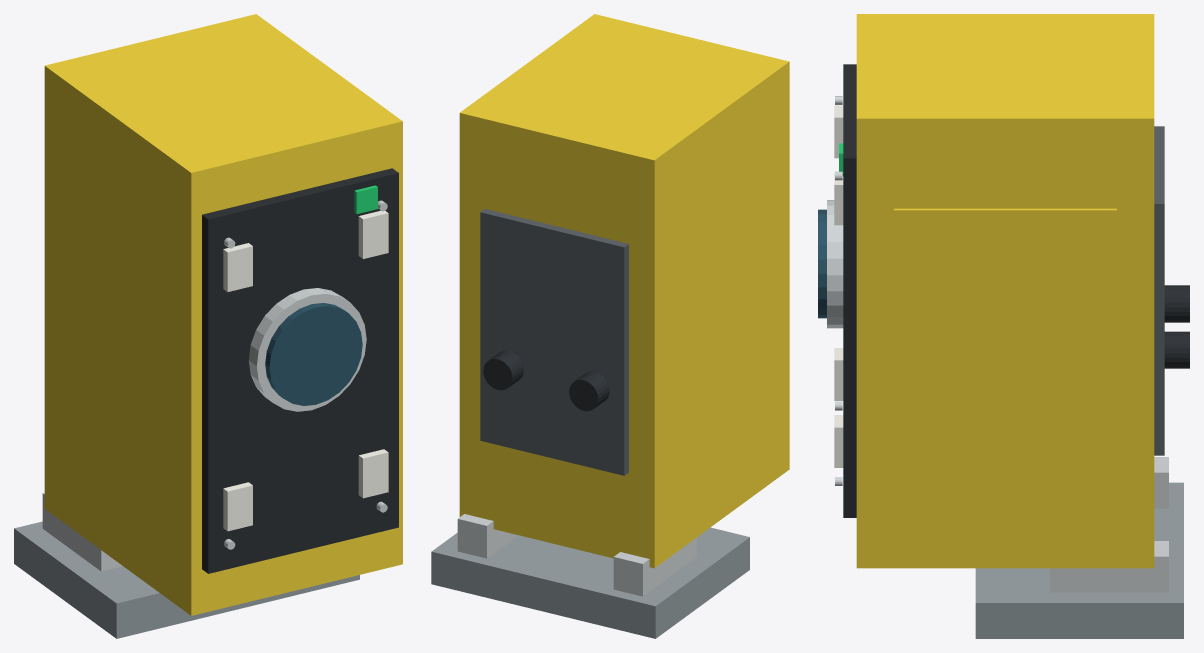
The picture shows the model from 3 angles, left to right: view 1: azimuth 30°, elevation 25°; view 2: azimuth 150°, elevation 25°; view 3: azimuth 270°, elevation 25°; orthographic projection. The views are drawn at different scales.
Parts seen in each view (by area): view 1: housing, front bezel, Mount bracket, optical lens, lens surround, mounting flange, illumination emitter.002, illumination emitter.003, illumination emitter, illumination emitter.001, status indicator; view 2: housing, Rear connector plate, Mount bracket, mounting flange, mounting flange.001, Electrical connector.001, Electrical connector; view 3: housing, yellow side band, Mount bracket, front bezel, Rear connector plate, mounting flange.001, lens surround, optical lens, Electrical connector, Electrical connector.001, mounting flange, illumination emitter (+1 smaller).
Part boxes in pixels (x1,y1,x2,y2): housing: [44, 14, 402, 615]; front bezel: [202, 168, 398, 573]; Mount bracket: [14, 521, 359, 638]; optical lens: [265, 303, 362, 405]; lens surround: [248, 288, 366, 411]; mounting flange: [42, 492, 122, 571]; illumination emitter.002: [358, 449, 388, 498]; illumination emitter.003: [358, 210, 388, 258]; illumination emitter: [223, 482, 252, 531]; illumination emitter.001: [223, 243, 252, 291]; status indicator: [354, 185, 377, 214]; housing: [459, 14, 789, 568]; Rear connector plate: [480, 209, 628, 475]; Mount bracket: [431, 527, 749, 638]; mounting flange: [613, 537, 696, 596]; mounting flange.001: [457, 514, 518, 558]; Electrical connector.001: [483, 350, 523, 390]; Electrical connector: [569, 371, 609, 411]; housing: [856, 14, 1154, 568]; yellow side band: [894, 208, 1116, 479]; Mount bracket: [975, 482, 1183, 638]; front bezel: [843, 64, 856, 517]; Rear connector plate: [1154, 126, 1164, 455]; mounting flange.001: [1050, 541, 1168, 592]; lens surround: [827, 200, 843, 328]; optical lens: [818, 209, 826, 318]; Electrical connector: [1164, 285, 1189, 322]; Electrical connector.001: [1164, 331, 1189, 368]; mounting flange: [1154, 457, 1168, 508]; illumination emitter: [834, 348, 843, 400].
Size of the model in its own units: 0.0862 by 0.171 by 0.1125.
